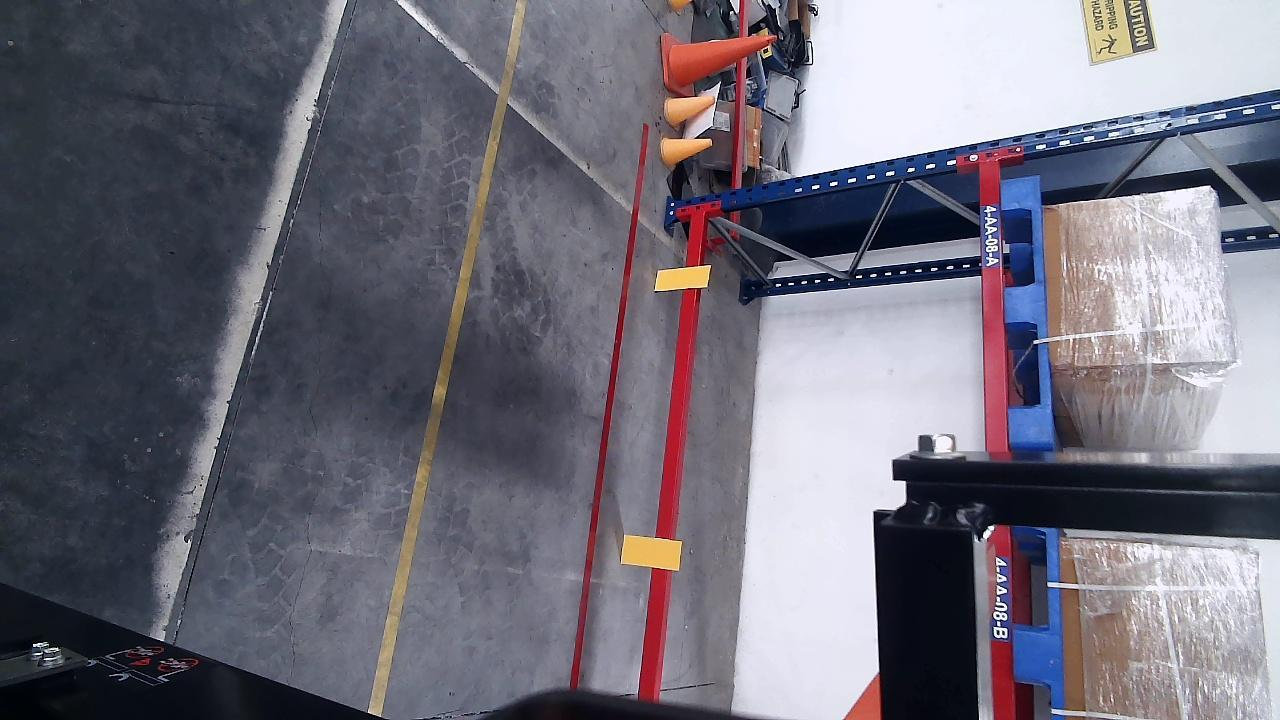h_rack: (641, 211, 706, 702), (980, 159, 1015, 720)
orange_strip: (622, 534, 679, 568), (656, 263, 713, 291)
red_line: (566, 123, 651, 693)
small_pallet: (1003, 176, 1054, 444)
yellow_line: (367, 0, 527, 720)
